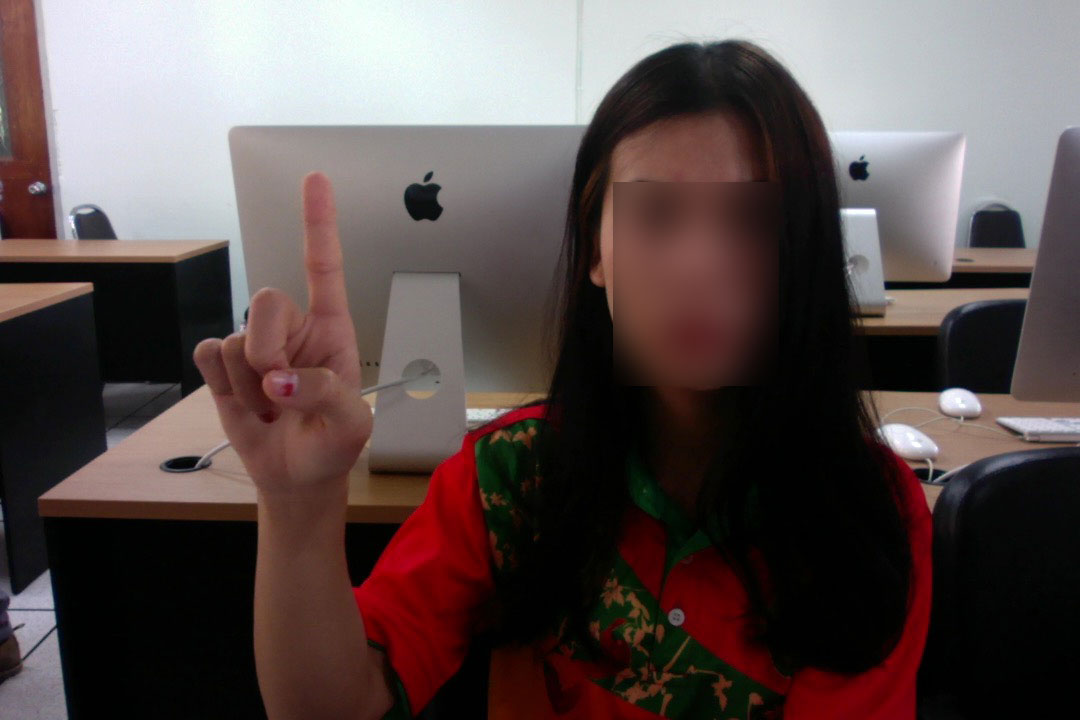dor: (185, 161, 379, 504)
